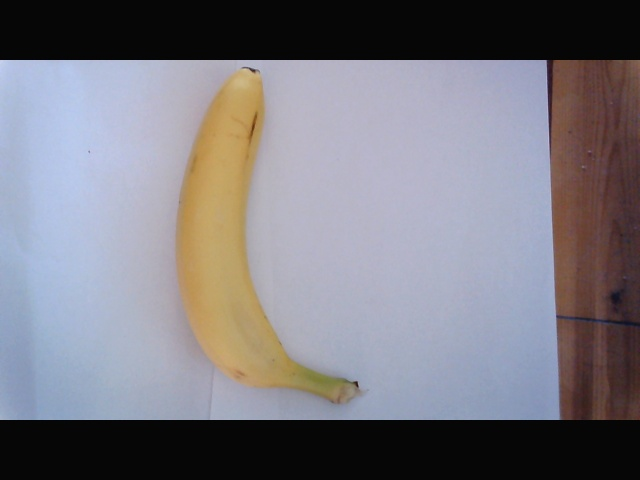banana: (168, 60, 359, 407)
